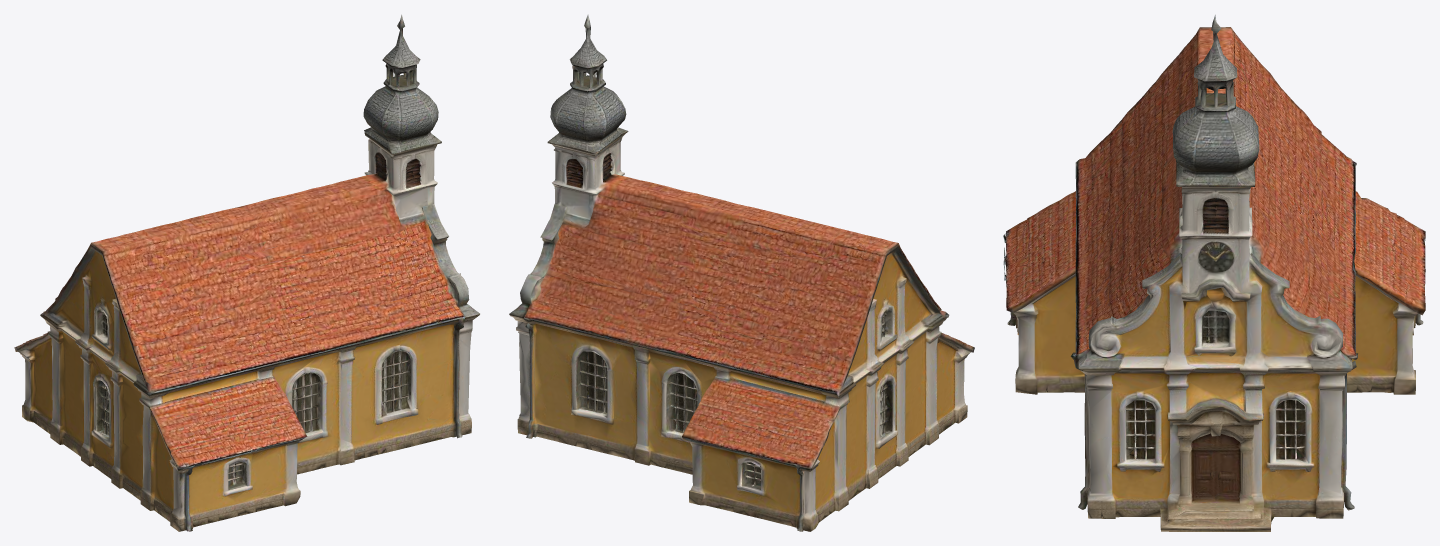
The model's file is kirche_oybin.glb.
The picture shows the model from 3 angles, left to right: view 1: azimuth 30°, elevation 25°; view 2: azimuth 150°, elevation 25°; view 3: azimuth 270°, elevation 25°; orthographic projection. The views are drawn at different scales.
Visible parts, largest first — view 1: tripo_node_664414bd-c02e-41fe-9a4c-f4163d95d5cb; view 2: tripo_node_664414bd-c02e-41fe-9a4c-f4163d95d5cb; view 3: tripo_node_664414bd-c02e-41fe-9a4c-f4163d95d5cb.
Part boxes in pixels (left/top/right/bottom): tripo_node_664414bd-c02e-41fe-9a4c-f4163d95d5cb: left=14, top=14, right=479, bottom=531; tripo_node_664414bd-c02e-41fe-9a4c-f4163d95d5cb: left=509, top=14, right=974, bottom=531; tripo_node_664414bd-c02e-41fe-9a4c-f4163d95d5cb: left=1003, top=14, right=1425, bottom=531.
Size of the model in its own units: 0.9408 by 1 by 0.7771.
1 material, 1 textured.
